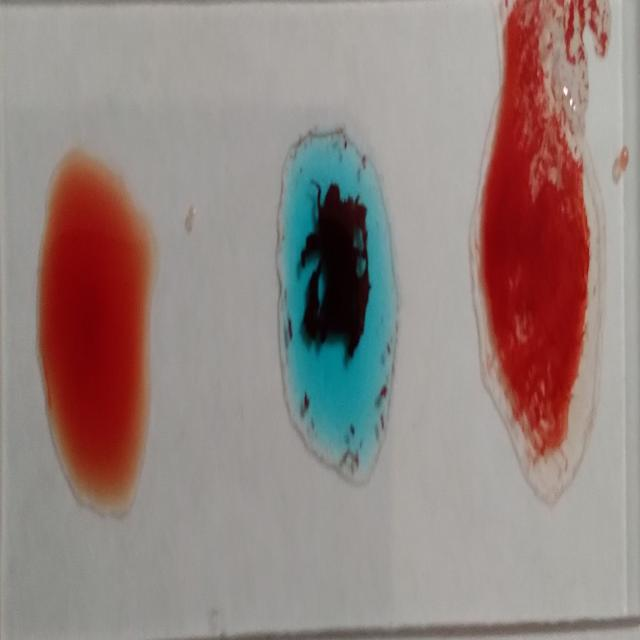A: (275, 118, 397, 492)
D: (479, 13, 604, 508)
